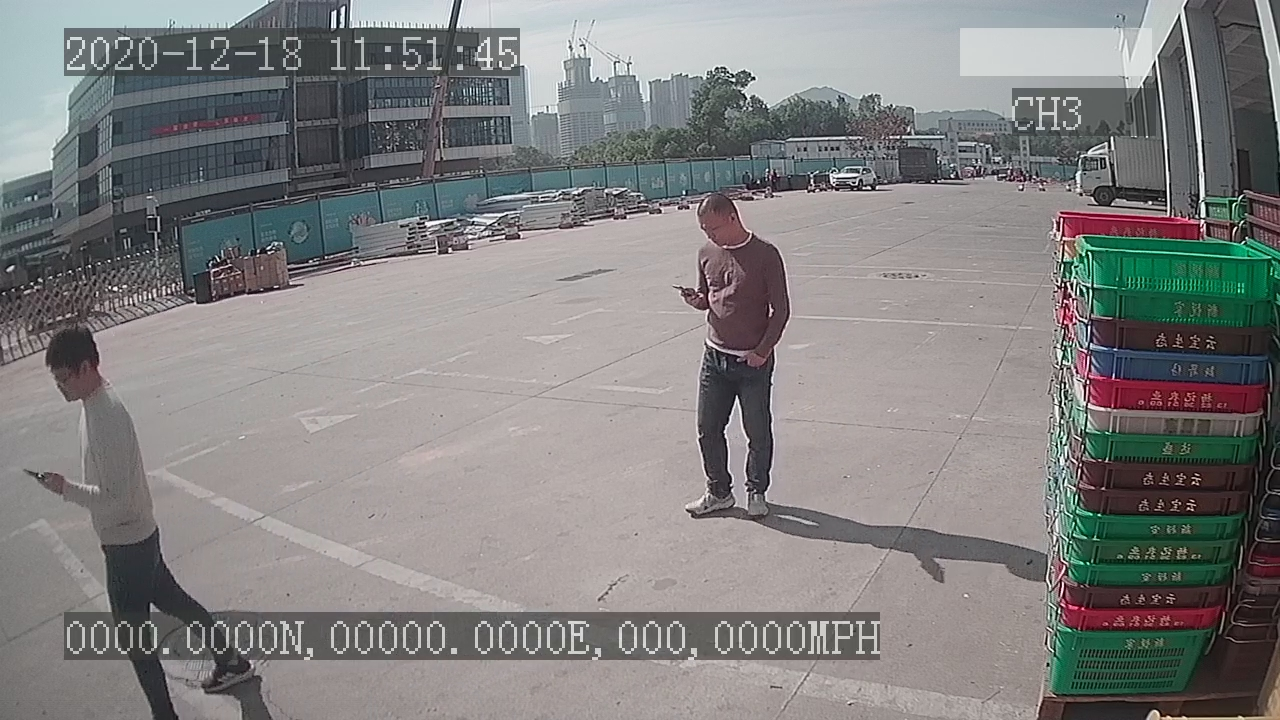person: (667, 188, 795, 529)
